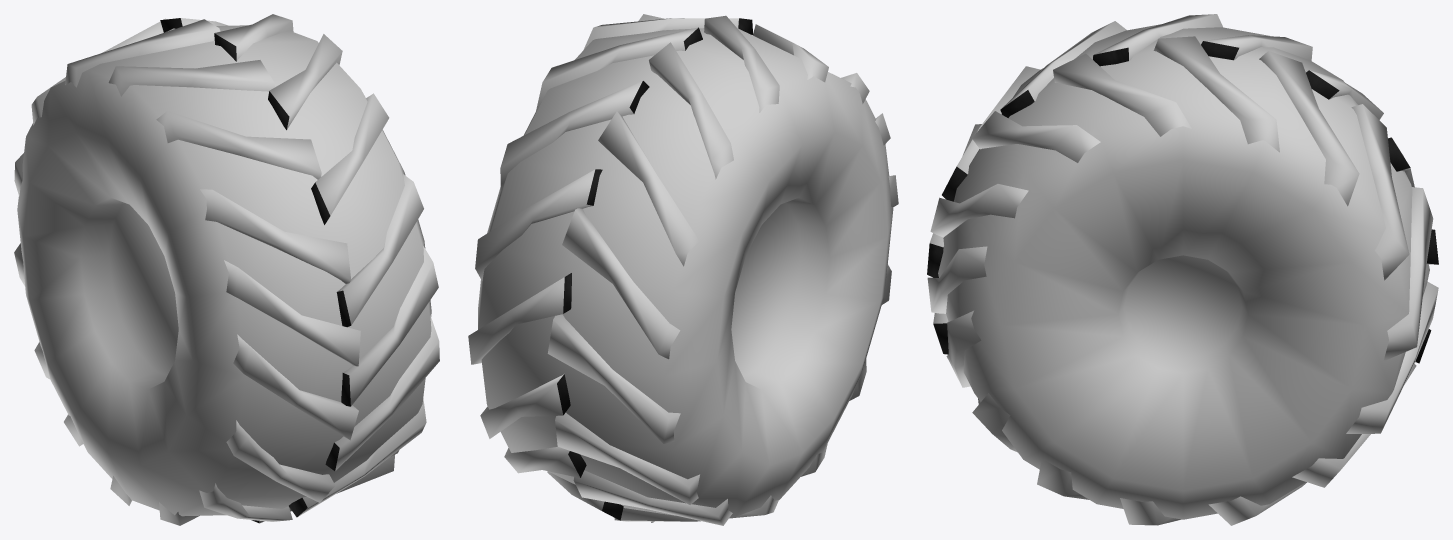
File: MonsterTruck_Wheel4_FR_fbx.fbx
3 views of the same model, side by side, from view 1: azimuth 30°, elevation 25°; view 2: azimuth 150°, elevation 25°; view 3: azimuth 270°, elevation 25° (orthographic).
Visible parts, largest first — view 1: FR; view 2: FR; view 3: FR.
Part boxes in pixels (x1=…): FR: x1=14, y1=14, x2=439, y2=525; FR: x1=468, y1=14, x2=898, y2=525; FR: x1=927, y1=14, x2=1438, y2=525.
Bounding box in the file's own units: 1.7 × 3.28 × 3.29.
